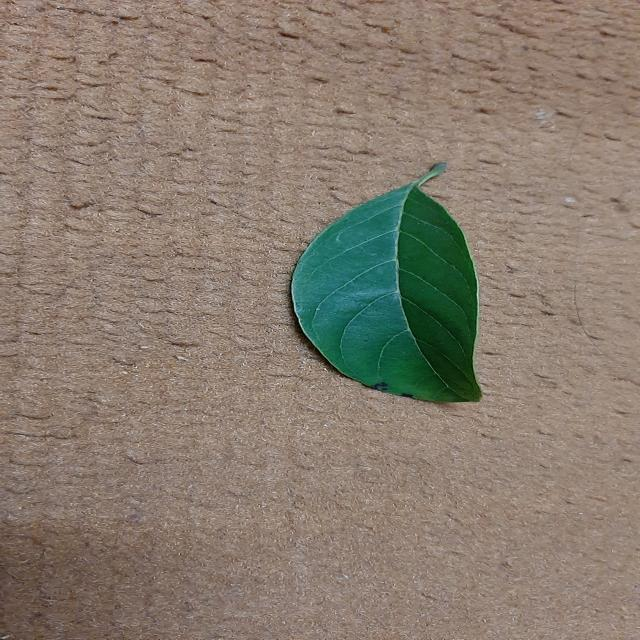seethaphala: (293, 162, 482, 402)
